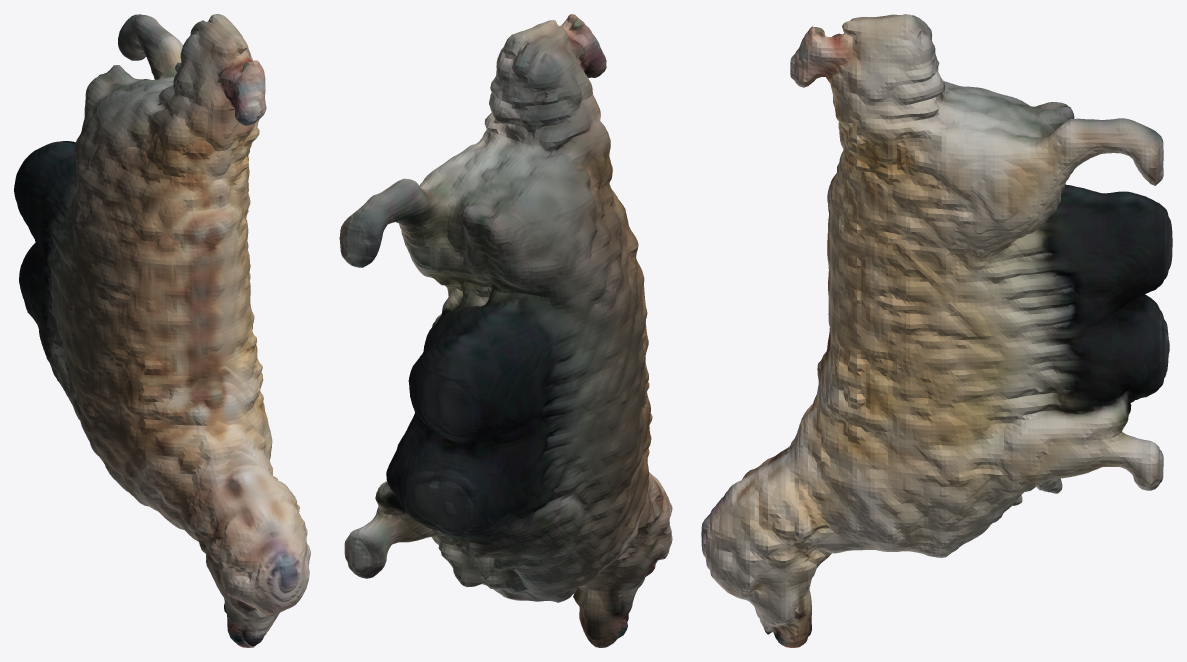
The picture shows the model from 3 angles, left to right: view 1: azimuth 30°, elevation 25°; view 2: azimuth 150°, elevation 25°; view 3: azimuth 270°, elevation 25°; orthographic projection. The views are drawn at different scales.
Parts seen in each view (by area): view 1: world; view 2: world; view 3: world.
Part boxes in pixels (x1=…): world: x1=14, y1=14, x2=310, y2=647; world: x1=339, y1=14, x2=672, y2=647; world: x1=701, y1=14, x2=1172, y2=647.
Bounding box in the file's own units: 0.3309 × 1.09 × 0.722.
